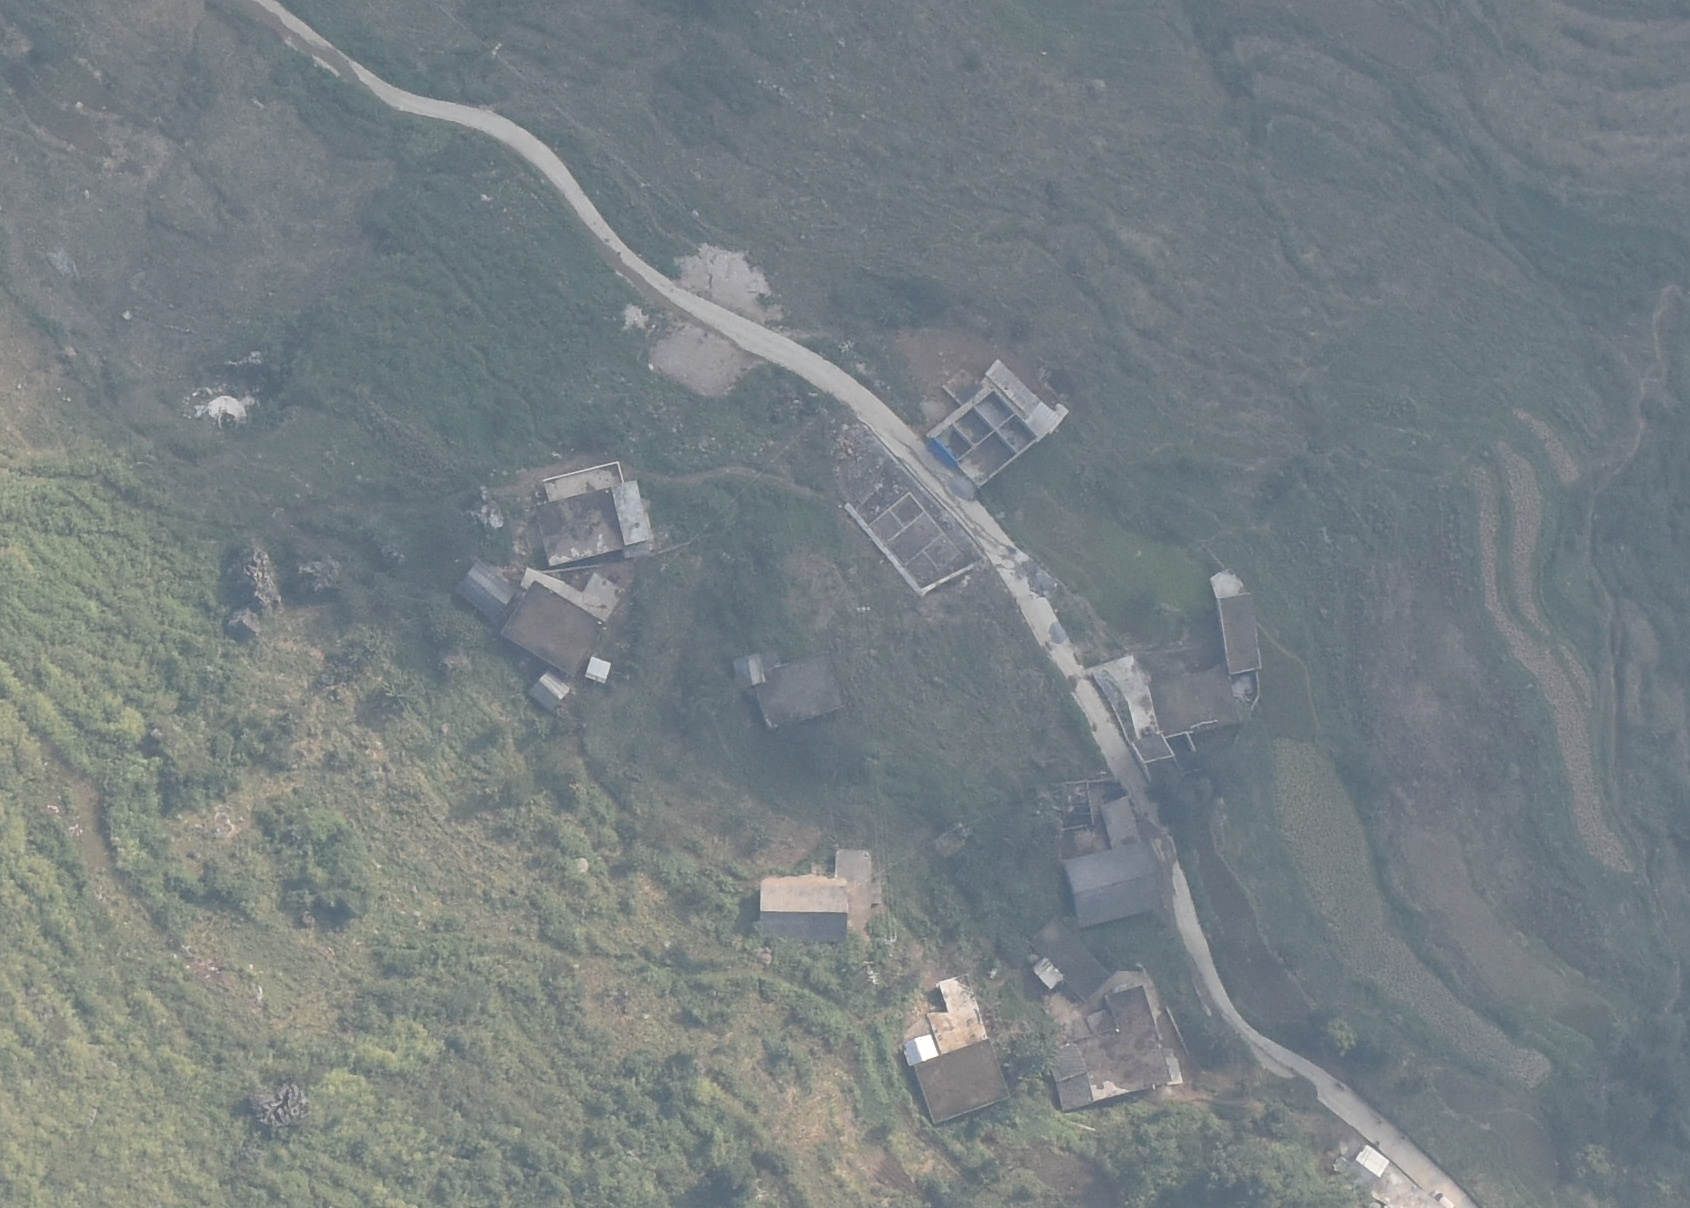building: (1039, 984, 1168, 1110), (535, 461, 655, 566), (932, 377, 1040, 489), (503, 577, 606, 682), (901, 1038, 1010, 1133), (733, 645, 853, 731), (1055, 842, 1165, 930), (757, 858, 857, 948), (1023, 918, 1111, 1001), (835, 831, 887, 953), (1214, 583, 1263, 680), (455, 556, 524, 618), (529, 667, 570, 713), (898, 1029, 942, 1064), (587, 656, 616, 692)
